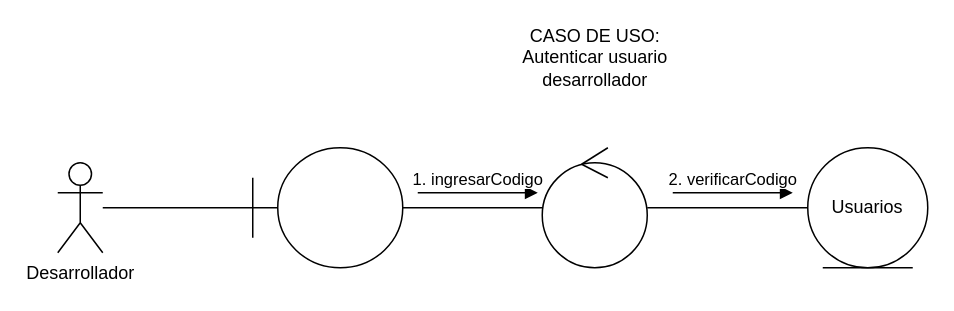
This 954x311 diagram has some shape labels left out. The centre of each missing label's shape, as x and y in pixels:
Gestión usuarios: pixel 594 207
Pantalla2FA: pixel 327 207
